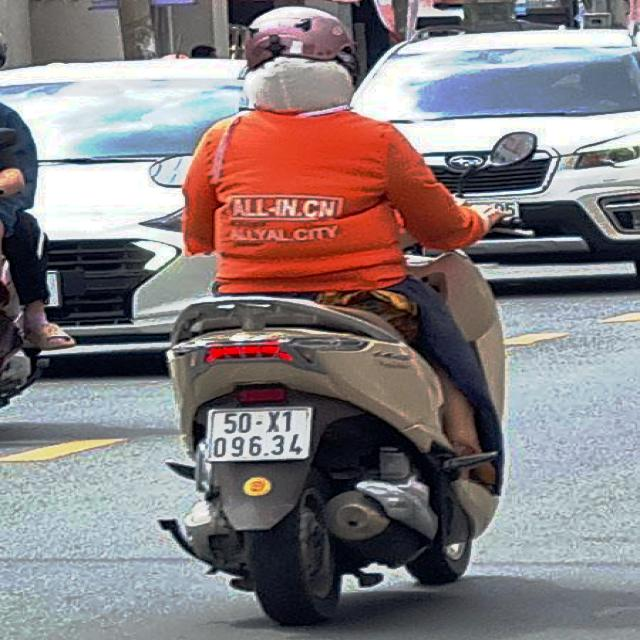license_plate: (208, 407, 318, 465)
